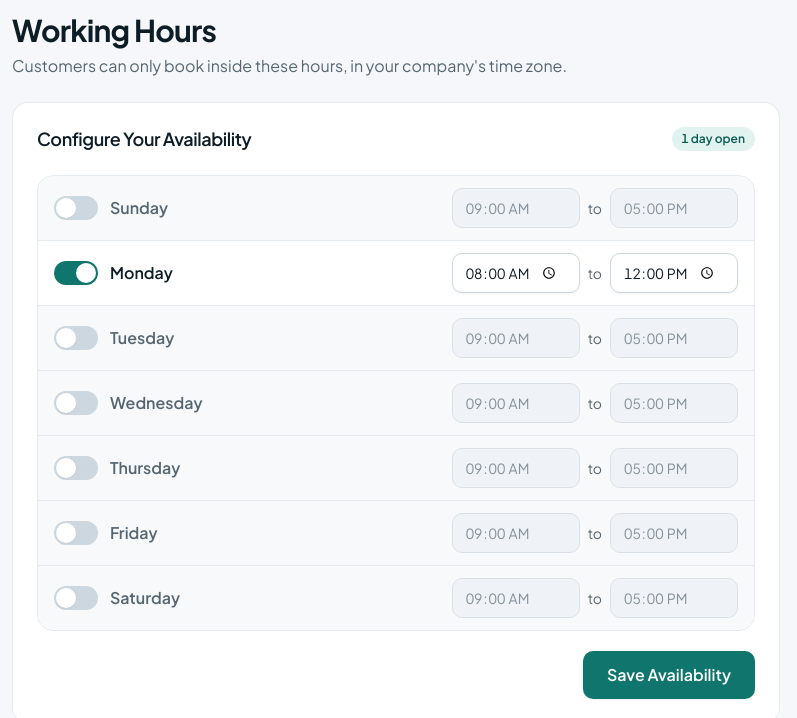
Test: WorkingHoursForm › shows the API message when saving fails
Click the button "Save Availability": (669, 675) [583,651,755,699]
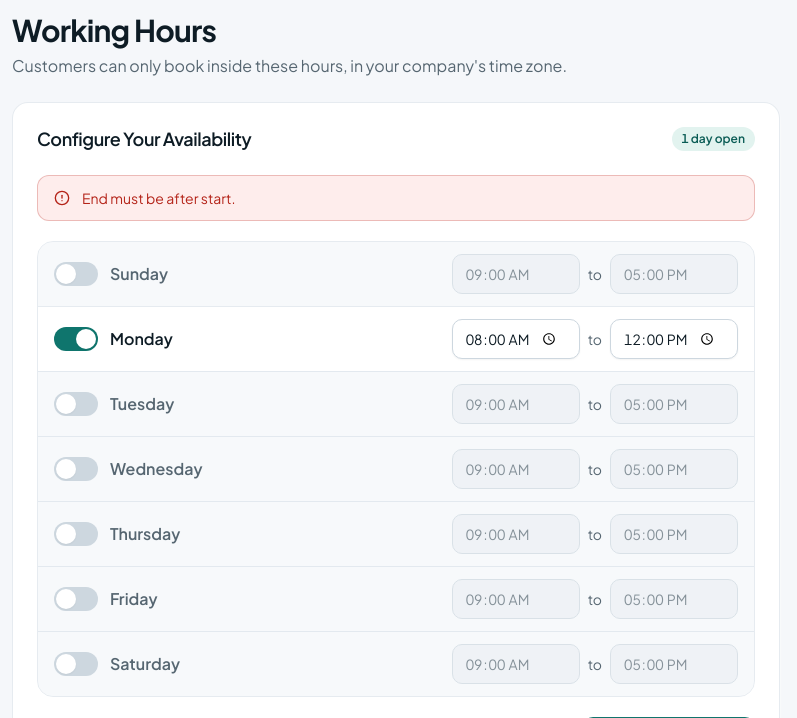
Expected: the text "End must be after start." is shown, [82,188,235,208]
